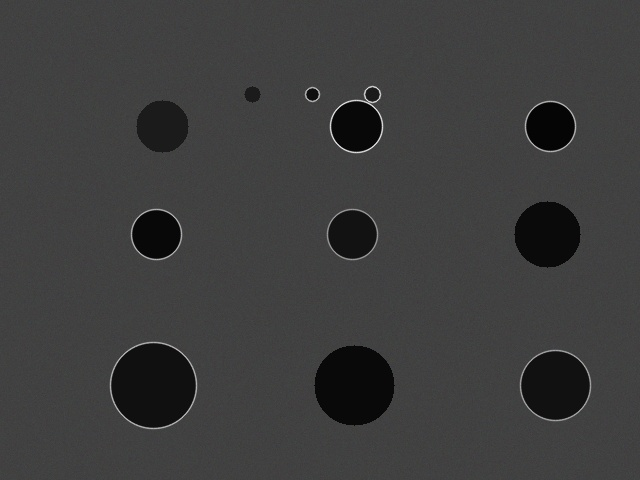hole: (110, 342, 196, 428), (314, 345, 394, 425), (520, 350, 590, 420), (514, 201, 580, 267), (136, 100, 188, 152), (330, 100, 382, 152), (525, 101, 575, 151), (131, 209, 181, 259), (327, 209, 377, 259), (244, 86, 260, 102), (364, 86, 380, 102), (305, 87, 319, 101)
